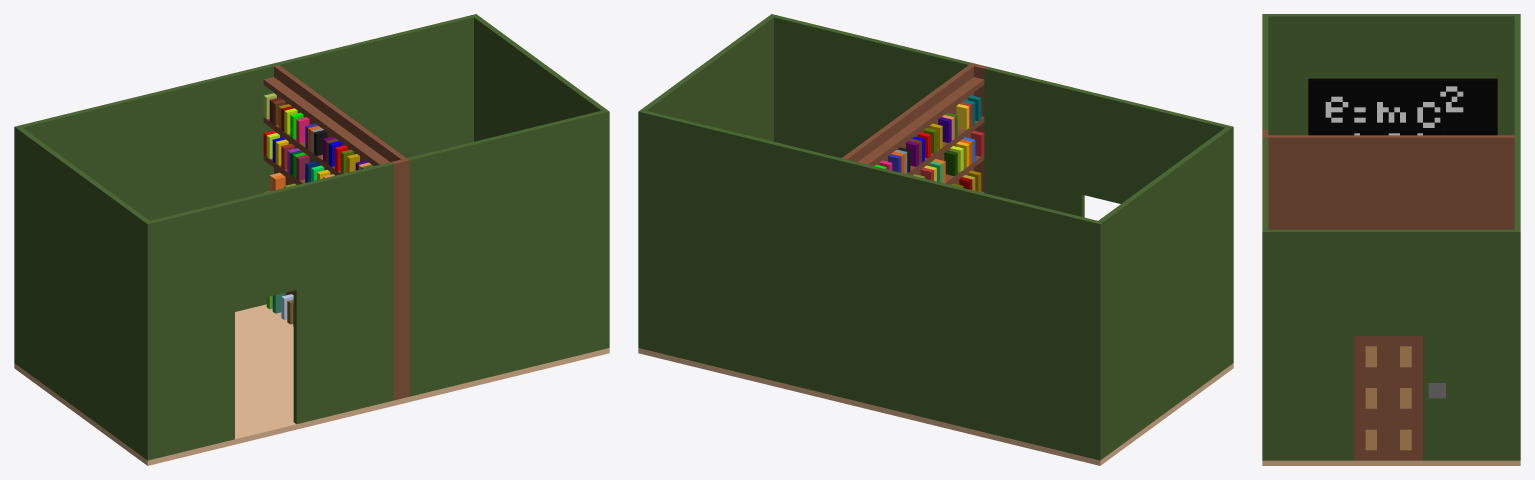
Rendered from study.gltf.
3 renders of one model, left to right at view 1: azimuth 30°, elevation 25°; view 2: azimuth 150°, elevation 25°; view 3: azimuth 270°, elevation 25°, orthographic. The views are drawn at different scales.
Parts seen in each view (by area): view 1: side room, base, doorway, bookshelf; view 2: base, side room, doorway, bookshelf; view 3: side room, base, bookshelf, exit door, doorway.
Boxes of the visible parts, left/top/right/bottom form: side room: left=246, top=14, right=609, bottom=409; base: left=14, top=70, right=378, bottom=465; doorway: left=150, top=162, right=393, bottom=459; bookshelf: left=263, top=65, right=409, bottom=400; base: left=869, top=125, right=1233, bottom=465; side room: left=638, top=14, right=971, bottom=409; doorway: left=984, top=66, right=1227, bottom=217; bookshelf: left=842, top=63, right=986, bottom=192; side room: left=1262, top=123, right=1520, bottom=465; base: left=1262, top=14, right=1520, bottom=135; bookshelf: left=1262, top=130, right=1514, bottom=229; exit door: left=1354, top=336, right=1422, bottom=460; doorway: left=1262, top=16, right=1268, bottom=130.
Size of the model in its own units: 90 by 45 by 45.
Materials: 1 (1 with a texture image).
